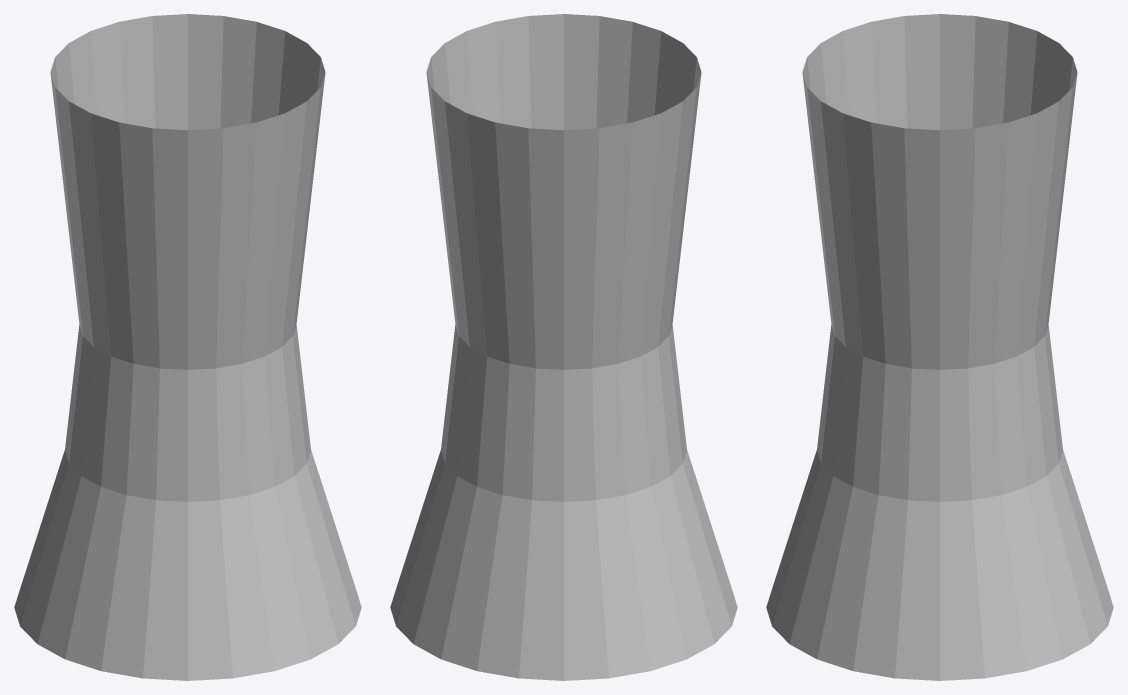
3 views of the same model, side by side, from view 1: azimuth 30°, elevation 25°; view 2: azimuth 150°, elevation 25°; view 3: azimuth 270°, elevation 25° (orthographic).
Size of the model in its own units: 0.48 by 0.816 by 0.48.
Materials: 1 (1 with a texture image).
